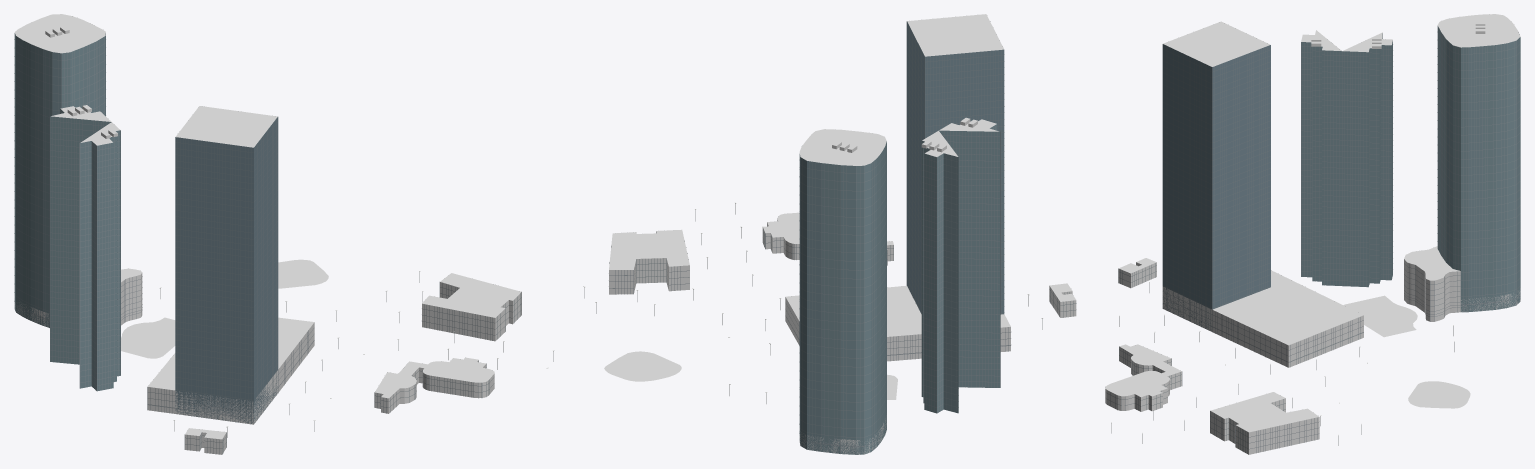
The picture shows the model from 3 angles, left to right: view 1: azimuth 30°, elevation 25°; view 2: azimuth 150°, elevation 25°; view 3: azimuth 270°, elevation 25°; orthographic projection. The views are drawn at different scales.
Visible parts, largest first — view 1: 0_-3_v02 中性蓝灰幕墙, 0_-3_超高层蓝灰幕墙, 0_-3_城市金属细框, 0_-3_v02 铝合金幕墙框, 0_-3_v02 深灰屋面, 0_-3_v02 米白石材, 0_-3_v02 草地; view 2: 0_-3_v02 中性蓝灰幕墙, 0_-3_v02 铝合金幕墙框, 0_-3_v02 深灰屋面, 0_-3_超高层蓝灰幕墙, 0_-3_城市金属细框, 0_-3_v02 米白石材, 0_-3_v02 草地; view 3: 0_-3_v02 中性蓝灰幕墙, 0_-3_超高层蓝灰幕墙, 0_-3_v02 铝合金幕墙框, 0_-3_v02 深灰屋面, 0_-3_城市金属细框, 0_-3_v02 米白石材, 0_-3_v02 草地.
Boxes of the visible parts, x1,y1,x2,y2 form: 0_-3_v02 中性蓝灰幕墙: (14,33,120,391); 0_-3_超高层蓝灰幕墙: (175,117,277,424); 0_-3_城市金属细框: (147,117,521,454); 0_-3_v02 铝合金幕墙框: (14,37,314,413); 0_-3_v02 深灰屋面: (14,14,521,439); 0_-3_v02 米白石材: (14,273,521,454); 0_-3_v02 草地: (121,259,328,358); 0_-3_v02 中性蓝灰幕墙: (799,124,1000,454); 0_-3_v02 铝合金幕墙框: (786,125,1010,454); 0_-3_v02 深灰屋面: (609,14,1075,336); 0_-3_超高层蓝灰幕墙: (907,21,1004,314); 0_-3_城市金属细框: (609,21,1076,360); 0_-3_v02 米白石材: (609,218,1076,454); 0_-3_v02 草地: (604,351,897,399); 0_-3_v02 中性蓝灰幕墙: (1301,26,1520,312); 0_-3_超高层蓝灰幕墙: (1162,44,1270,330); 0_-3_v02 铝合金幕墙框: (1212,32,1520,366); 0_-3_v02 深灰屋面: (1105,14,1520,432); 0_-3_城市金属细框: (1105,46,1363,453); 0_-3_v02 米白石材: (1105,259,1520,454); 0_-3_v02 草地: (1343,295,1470,408).
Bounding box in the file's own units: 276 × 182 × 255.
